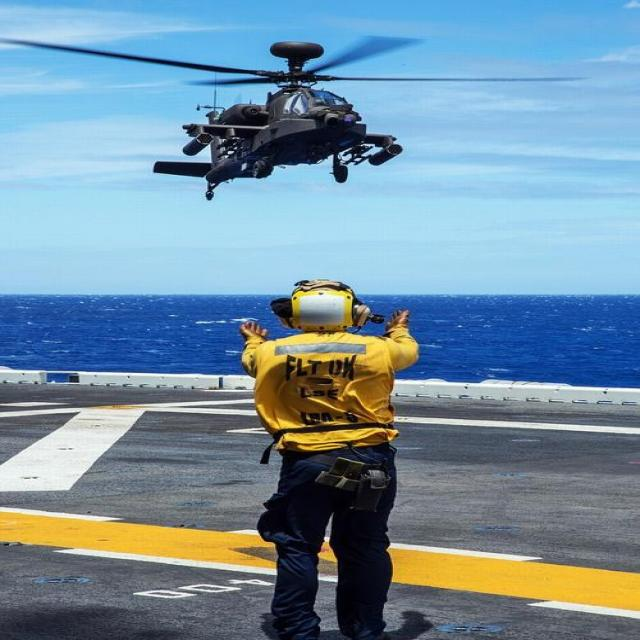MIL_HELO: (0, 20, 586, 196)
